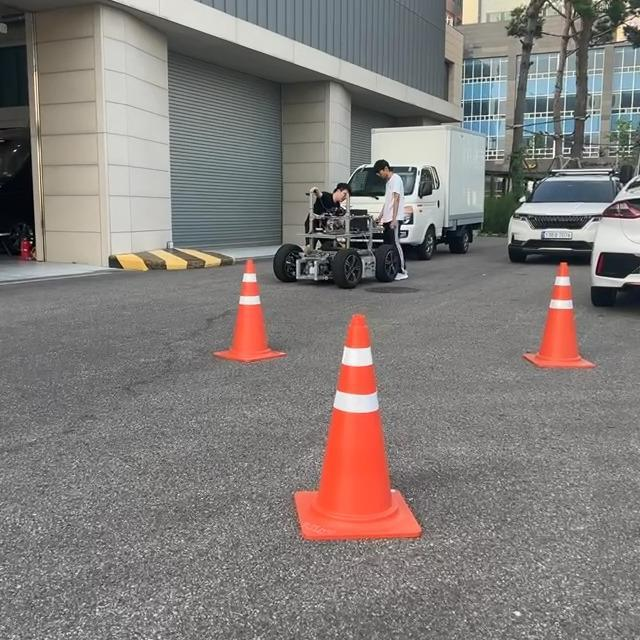fallen_object: (283, 285, 417, 534), (532, 229, 608, 378), (215, 245, 297, 371)
